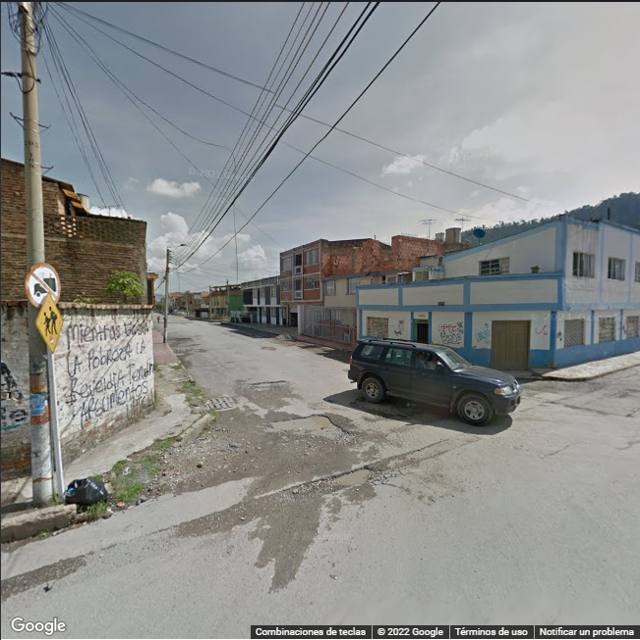D40: (271, 413, 339, 438), (328, 465, 375, 486)
